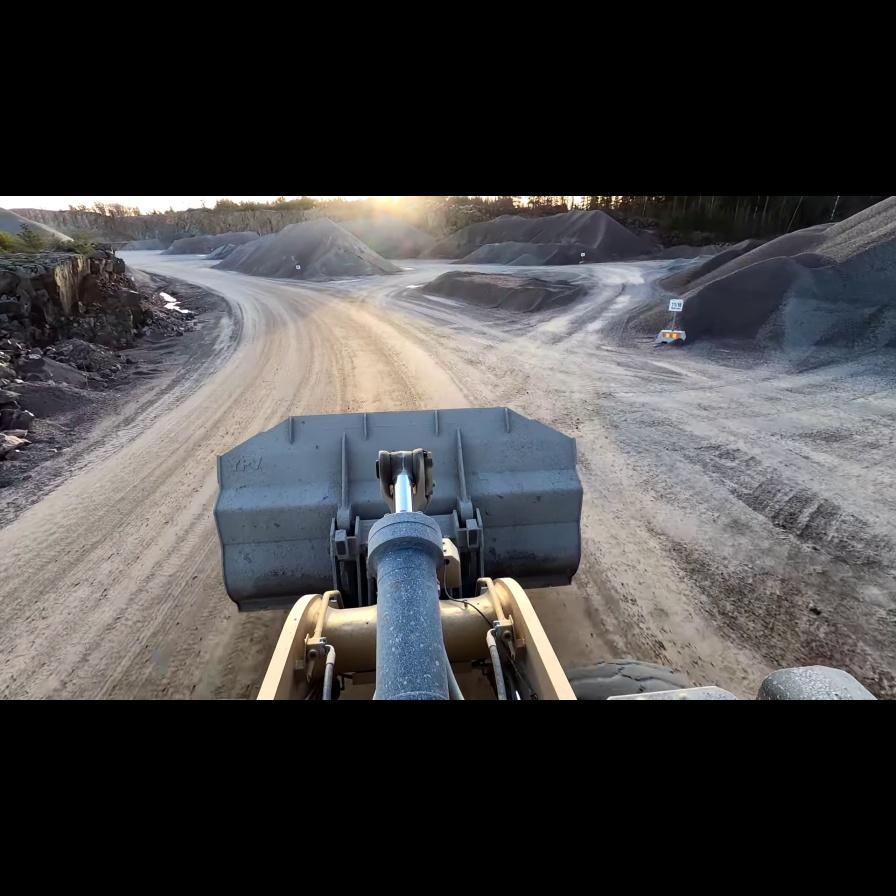anchor: (375, 448, 434, 513)
pile of gravel: (632, 189, 890, 361), (430, 209, 657, 265), (211, 219, 404, 281), (410, 268, 591, 314), (1, 206, 78, 247), (164, 231, 259, 257), (120, 238, 167, 251)
